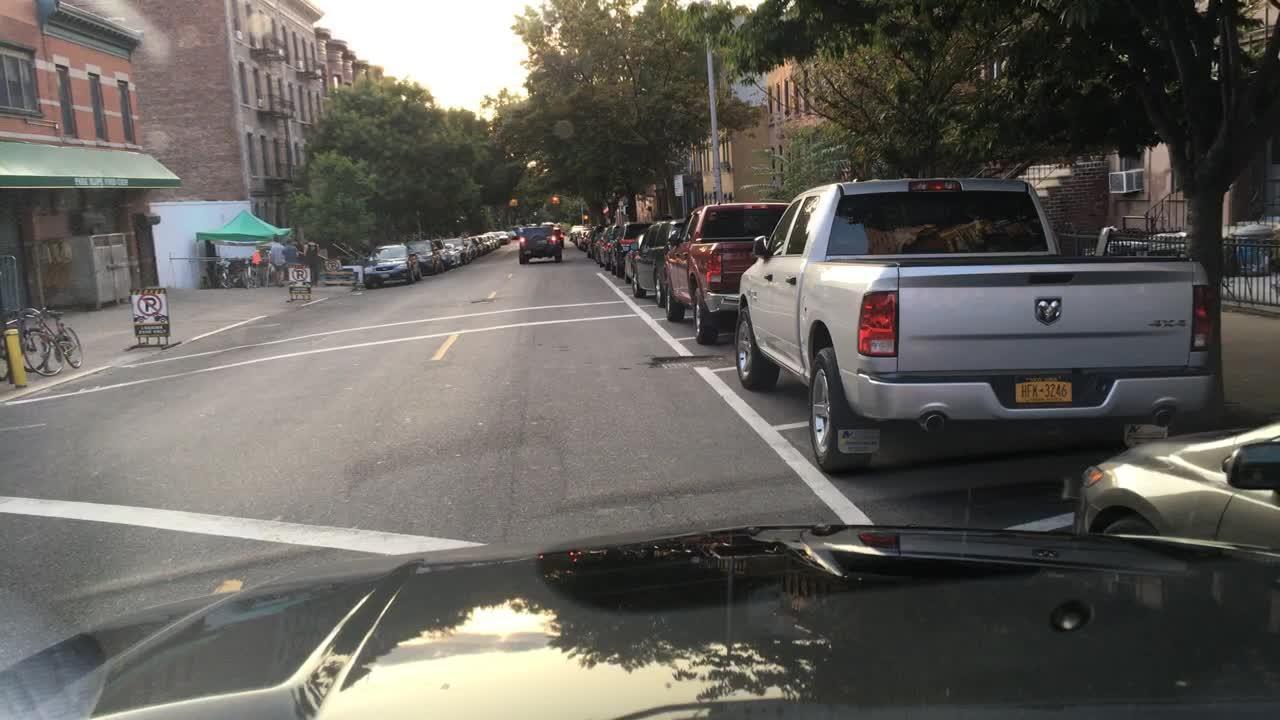ram: (1032, 295, 1067, 327)
